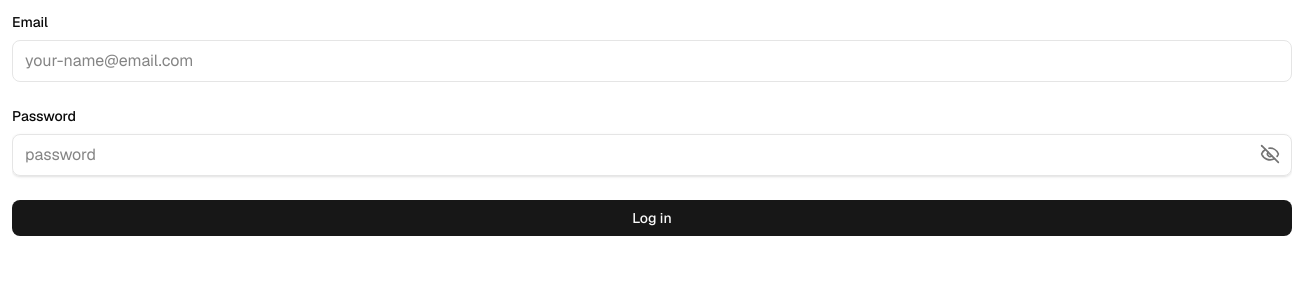
Test: LoginForm › should show validation errors for empty fields
Step 1. Click the button "Log in" → (652, 218), box x1=12 y1=200 x2=1292 y2=236
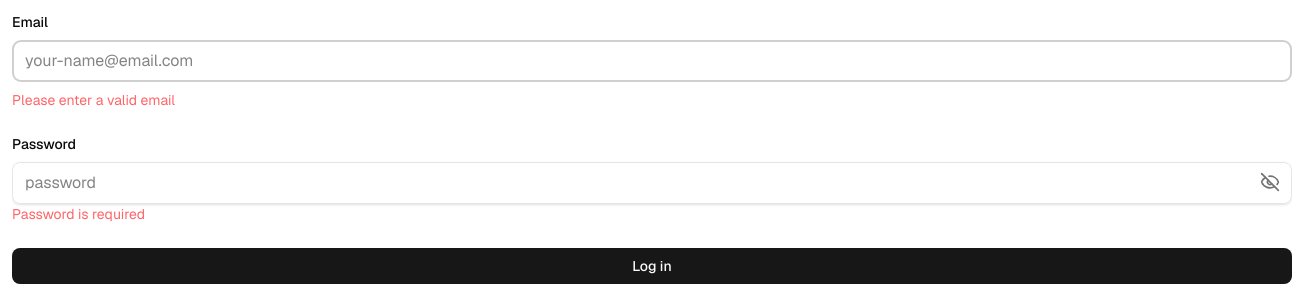
Check: the text "Please enter a valid email" is shown, box x1=12 y1=91 x2=175 y2=109
Check: the text "Password is required" is shown, box x1=12 y1=205 x2=145 y2=223
